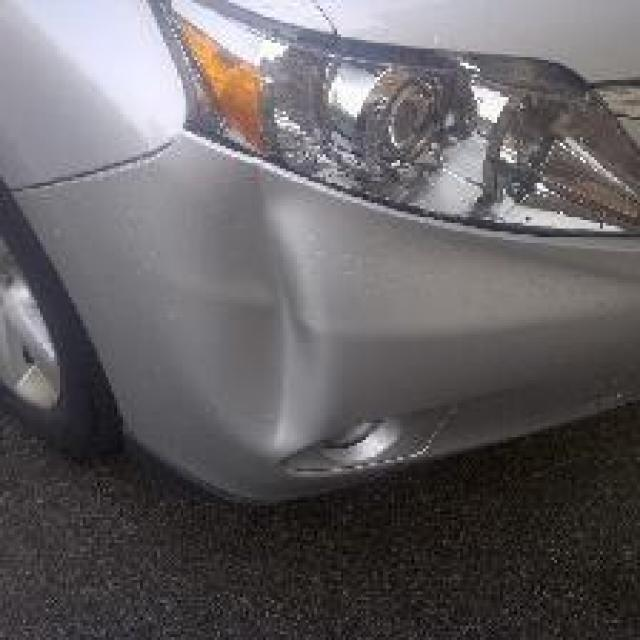damaged: (157, 168, 346, 460)
